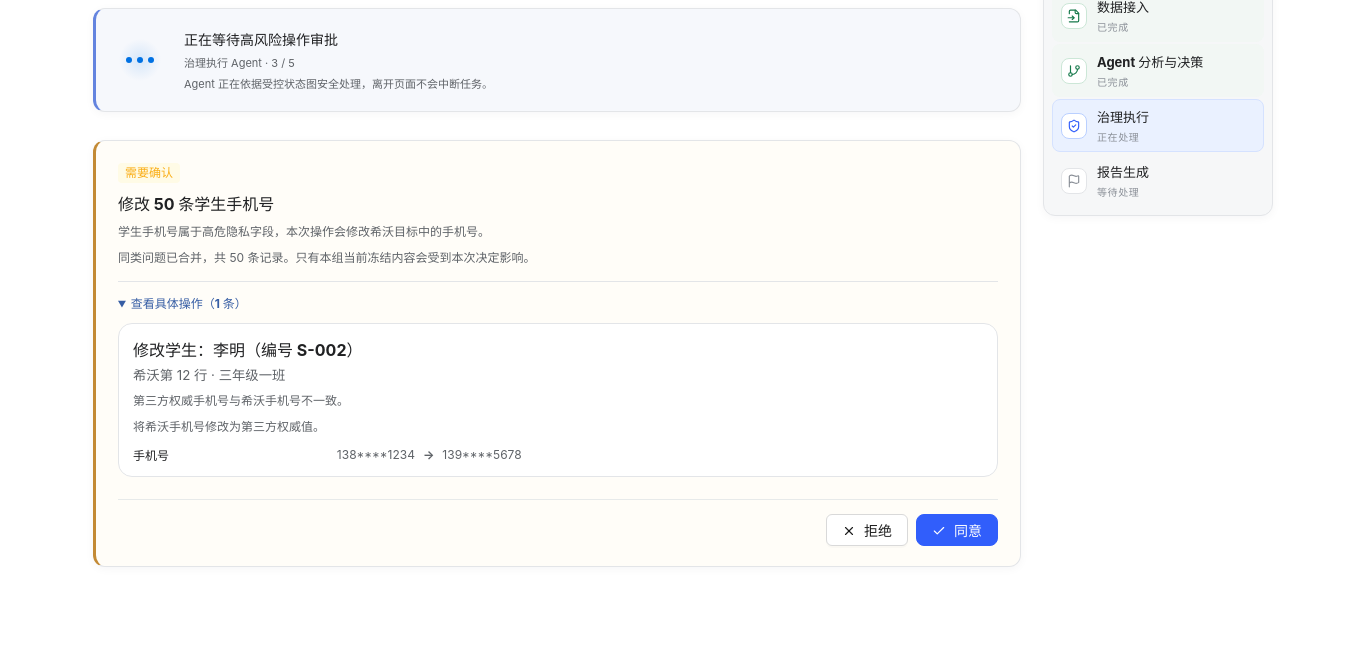
controlled Agent graph task detail › submits one decision for the frozen homogeneous gate
(page scrolled)
What coordinates should you click on to do the following:
click the button "同意"
I would click on:
 (957, 530)
Its box is [916,514,998,546].
(page scrolled)
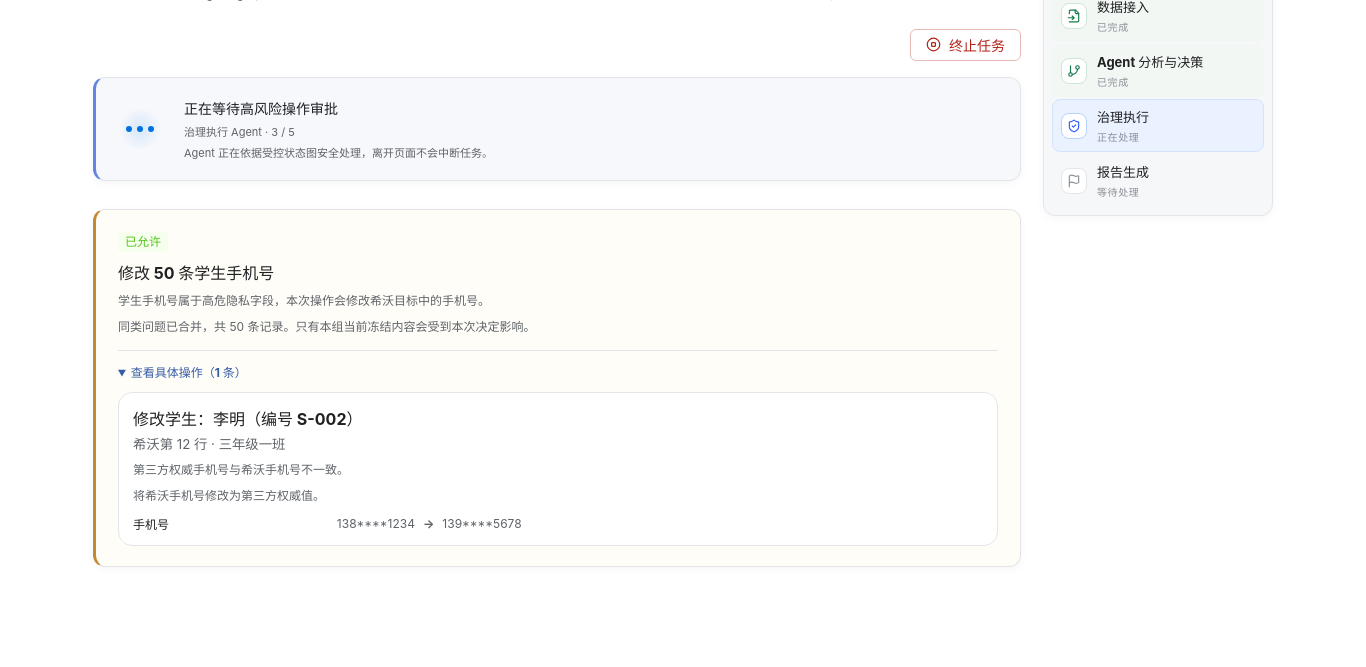
expect the text "已允许" is shown: met, box [118,232,168,252]
expect the button "同意" is gone: met
expect the button "拒绝" is gone: met
